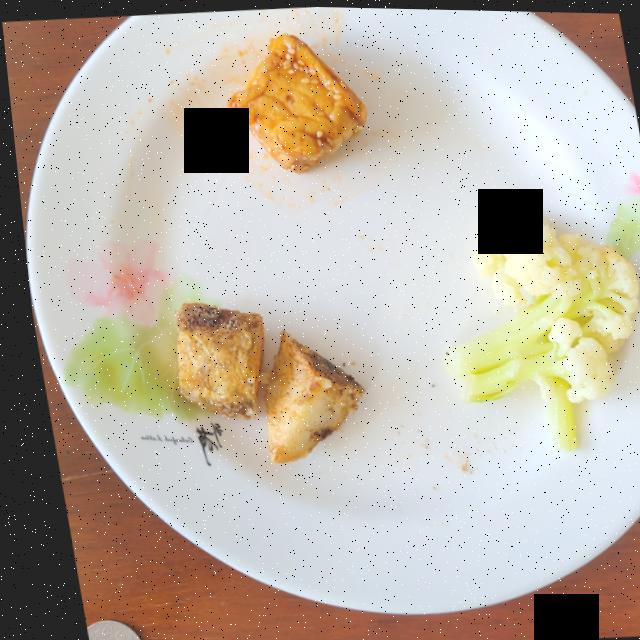coin: (72, 620, 126, 640)
creamy tofu: (224, 31, 364, 172)
fried potato: (167, 301, 355, 462)
